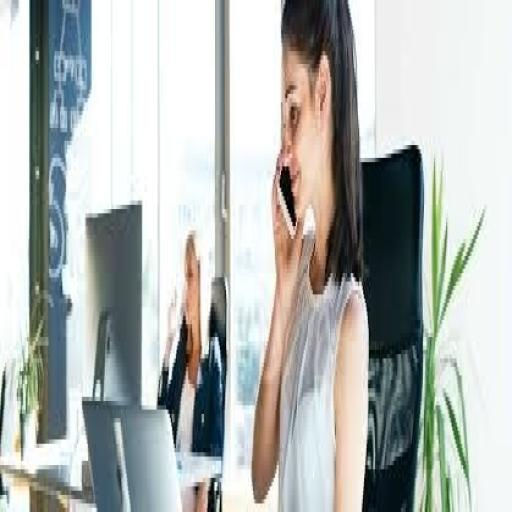calling: (248, 0, 372, 508), (155, 222, 221, 508)
